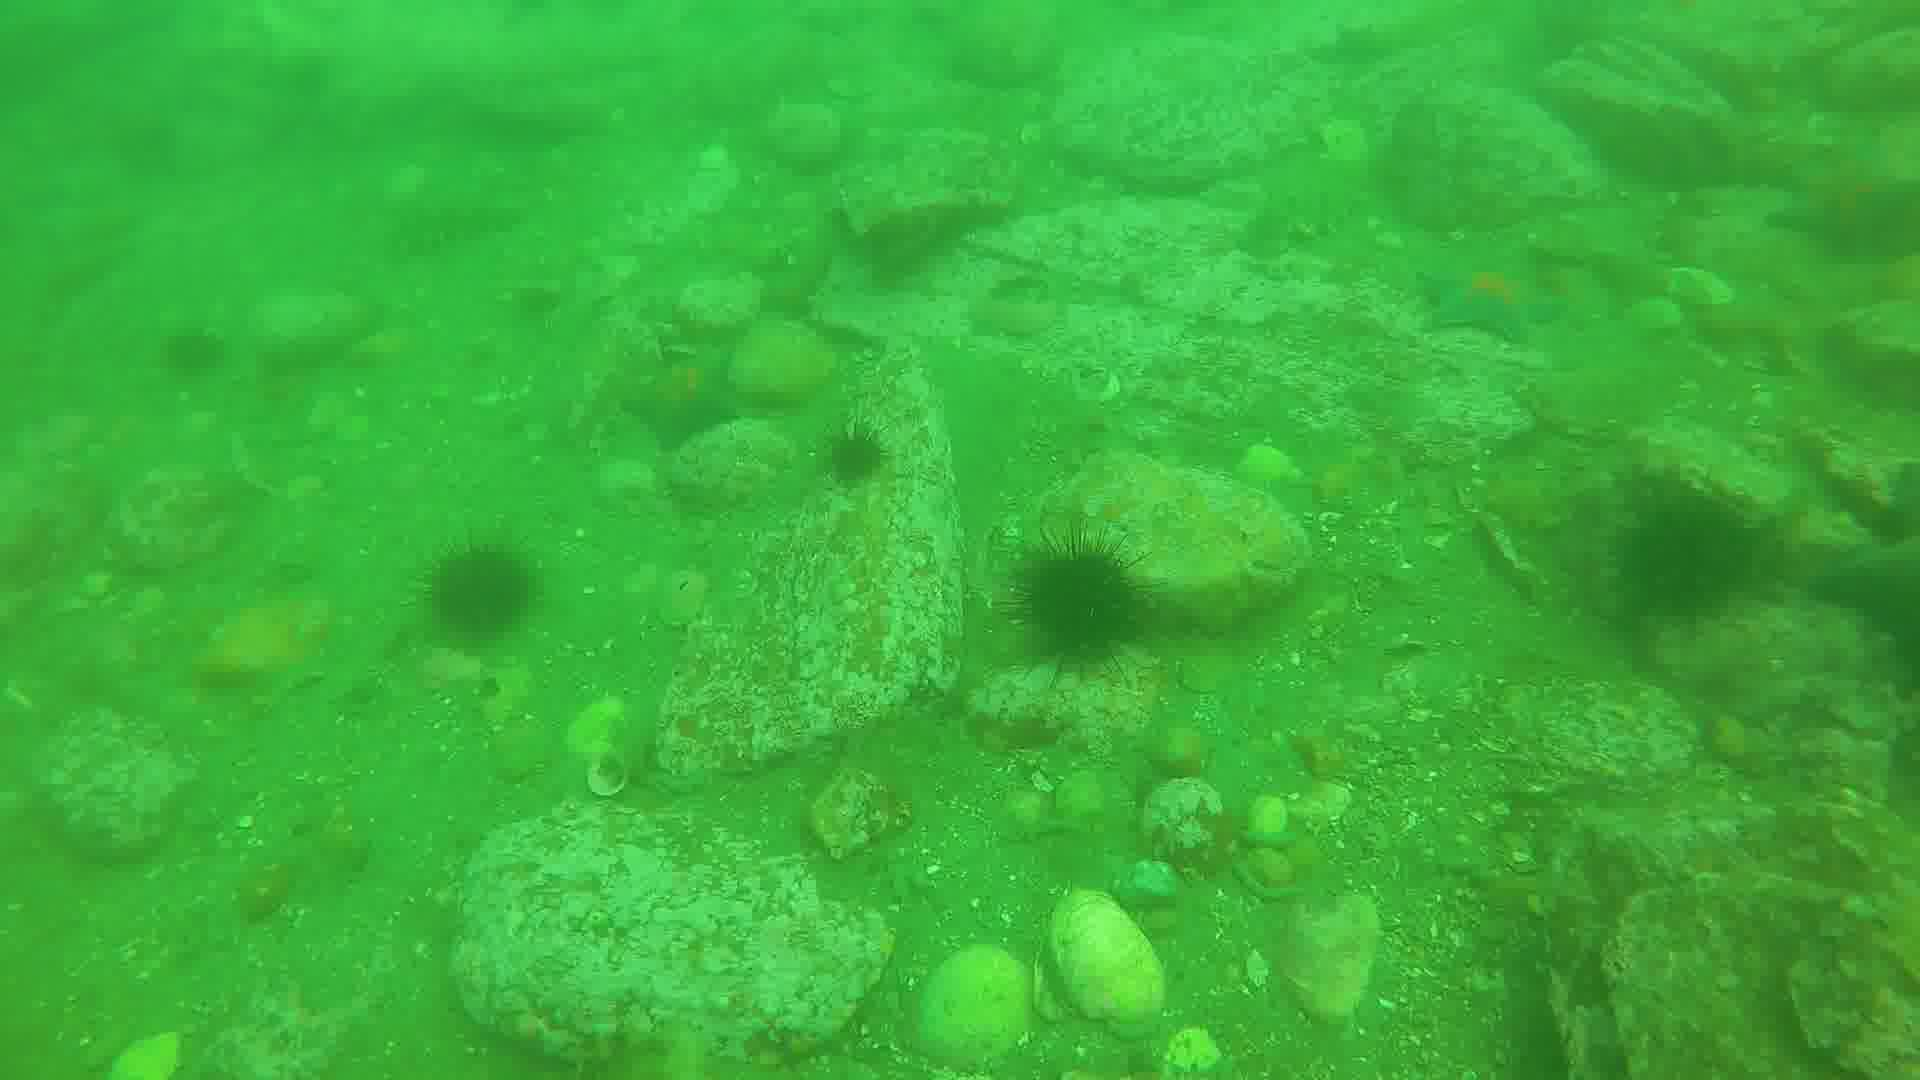echinus: (1601, 483, 1768, 626), (1021, 546, 1153, 675), (429, 538, 535, 653), (824, 422, 891, 497)
scallop: (1044, 894, 1178, 1042), (927, 939, 1031, 1073)
starfish: (1818, 458, 1920, 705), (1779, 165, 1920, 270), (1423, 255, 1575, 349), (632, 344, 756, 440)
